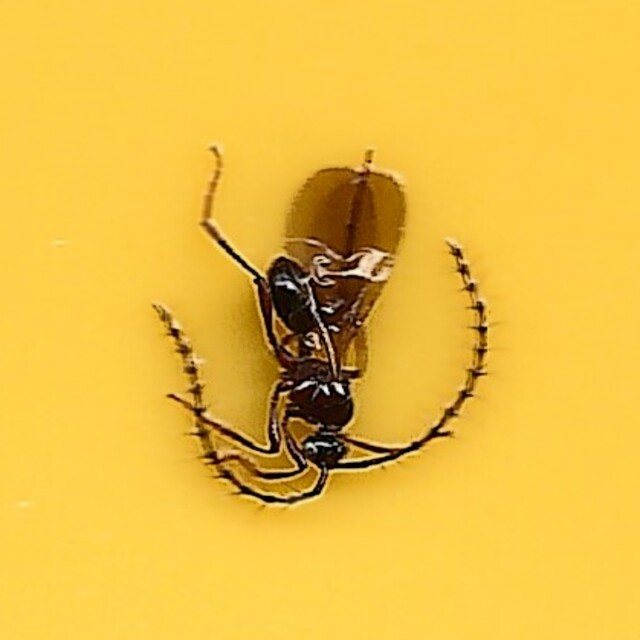Hymenoptera: (153, 132, 487, 508)
